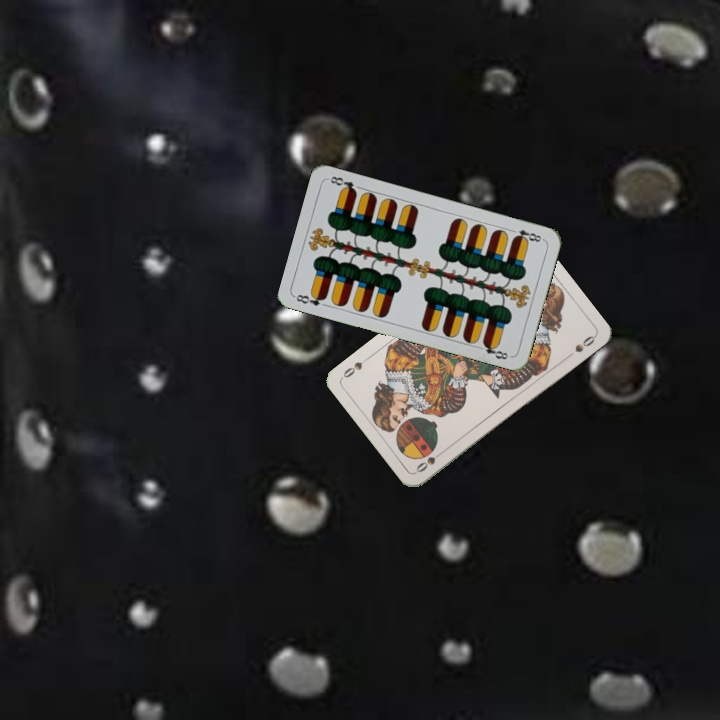E8: (292, 289, 332, 310), (506, 225, 546, 245)
SO: (412, 446, 447, 475)
